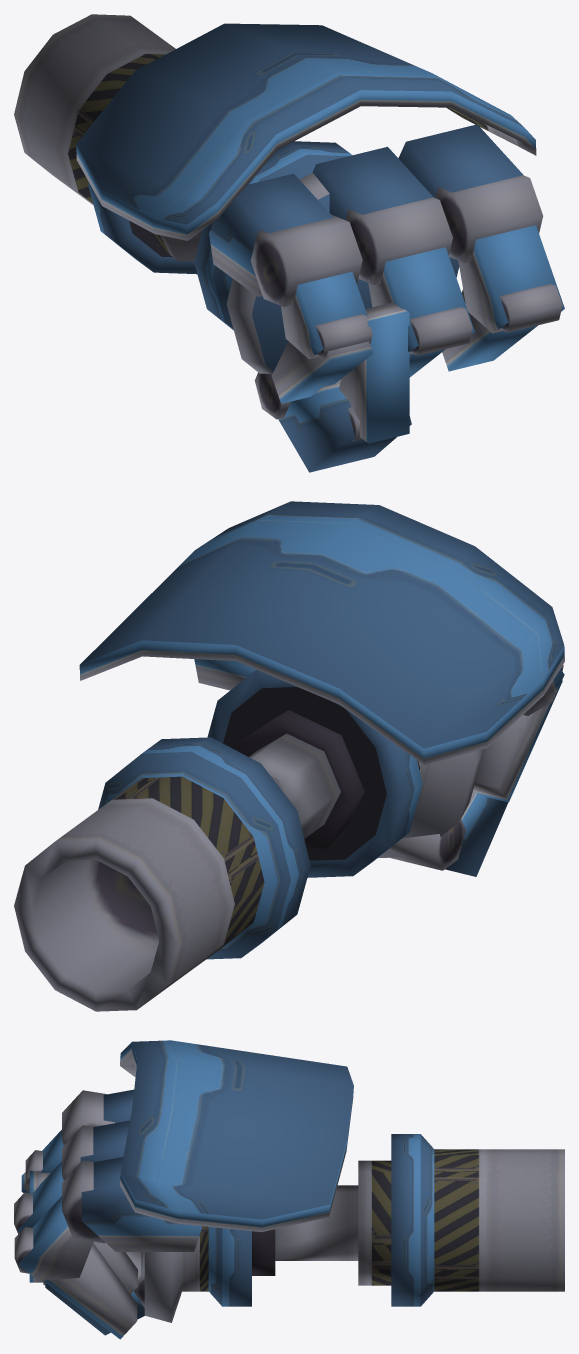
The model's file is LoaderHook.fbx.
The picture shows the model from 3 angles, top to bottom: view 1: azimuth 30°, elevation 25°; view 2: azimuth 150°, elevation 25°; view 3: azimuth 270°, elevation 25°; orthographic projection. The views are drawn at different scales.
Parts seen in each view (by area): view 1: FistMesh; view 2: FistMesh; view 3: FistMesh.
Boxes of the visible parts, box(x1,y1,x2,y2) form: FistMesh: box(14, 14, 564, 472); FistMesh: box(14, 501, 564, 1011); FistMesh: box(14, 1040, 564, 1339).
Size of the model in its own units: 0.9631 by 0.8929 by 1.6.
